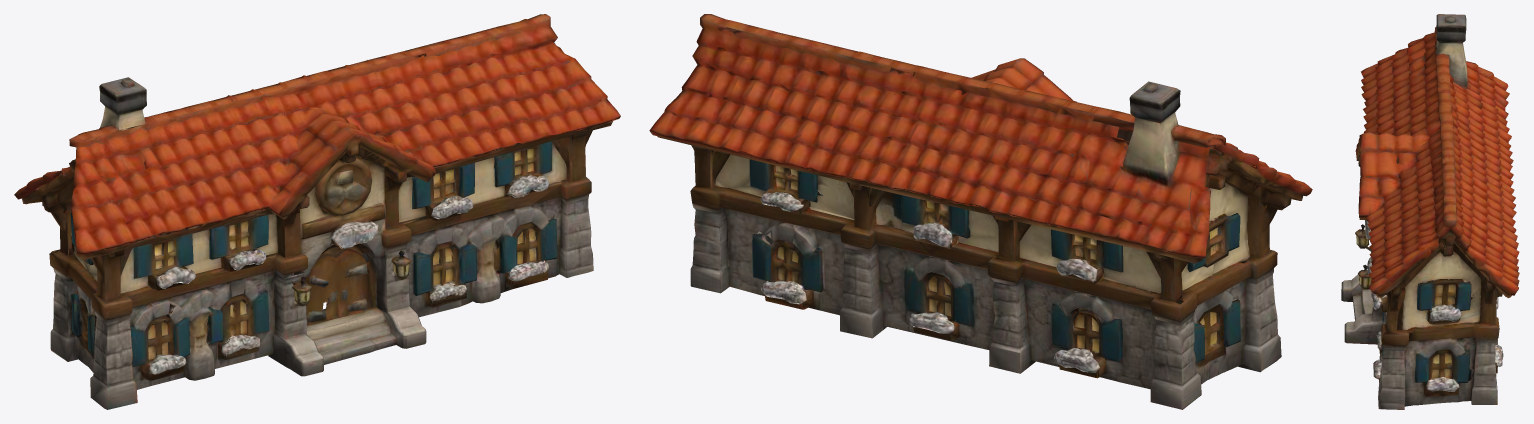
The picture shows the model from 3 angles, left to right: view 1: azimuth 30°, elevation 25°; view 2: azimuth 150°, elevation 25°; view 3: azimuth 270°, elevation 25°; orthographic projection. The views are drawn at different scales.
Parts seen in each view (by area): view 1: alpine__finance_1__native_mobile; view 2: alpine__finance_1__native_mobile; view 3: alpine__finance_1__native_mobile.
Part boxes in pixels (x1,y1,x2,y2): alpine__finance_1__native_mobile: [14, 14, 620, 409]; alpine__finance_1__native_mobile: [649, 14, 1312, 409]; alpine__finance_1__native_mobile: [1341, 14, 1519, 409].
Bounding box in the file's own units: 1 × 0.4877 × 0.3374.
Materials: 1 (1 with a texture image).
